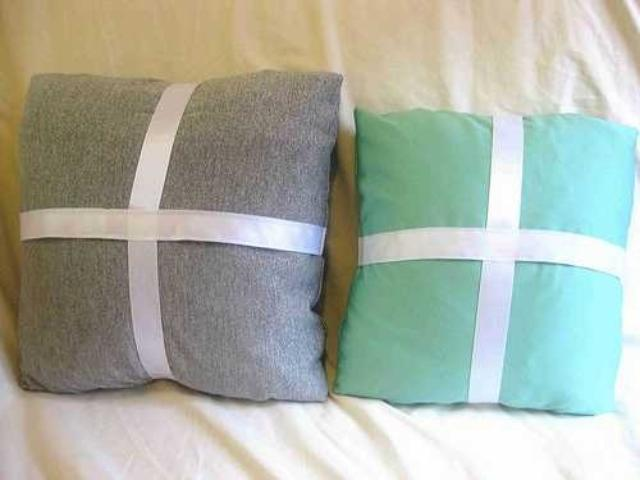pillow: (17, 68, 343, 402), (332, 104, 636, 416)
